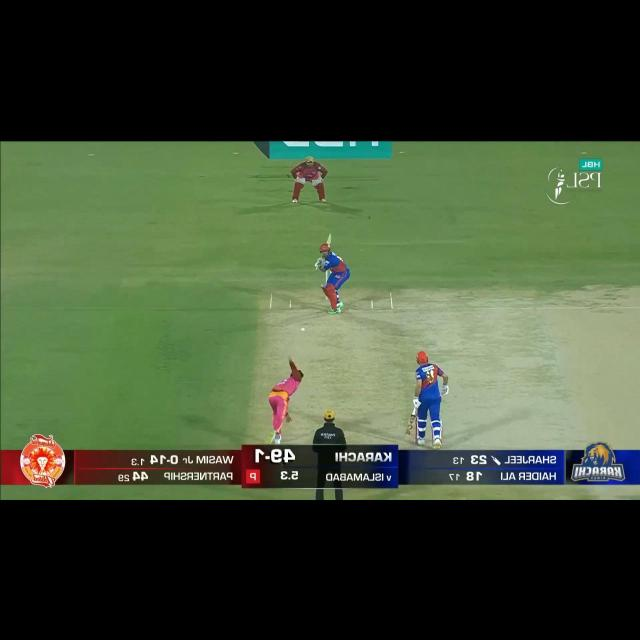bat: (319, 228, 336, 258), (404, 414, 415, 442)
toe: (325, 233, 332, 245), (403, 434, 411, 441)
